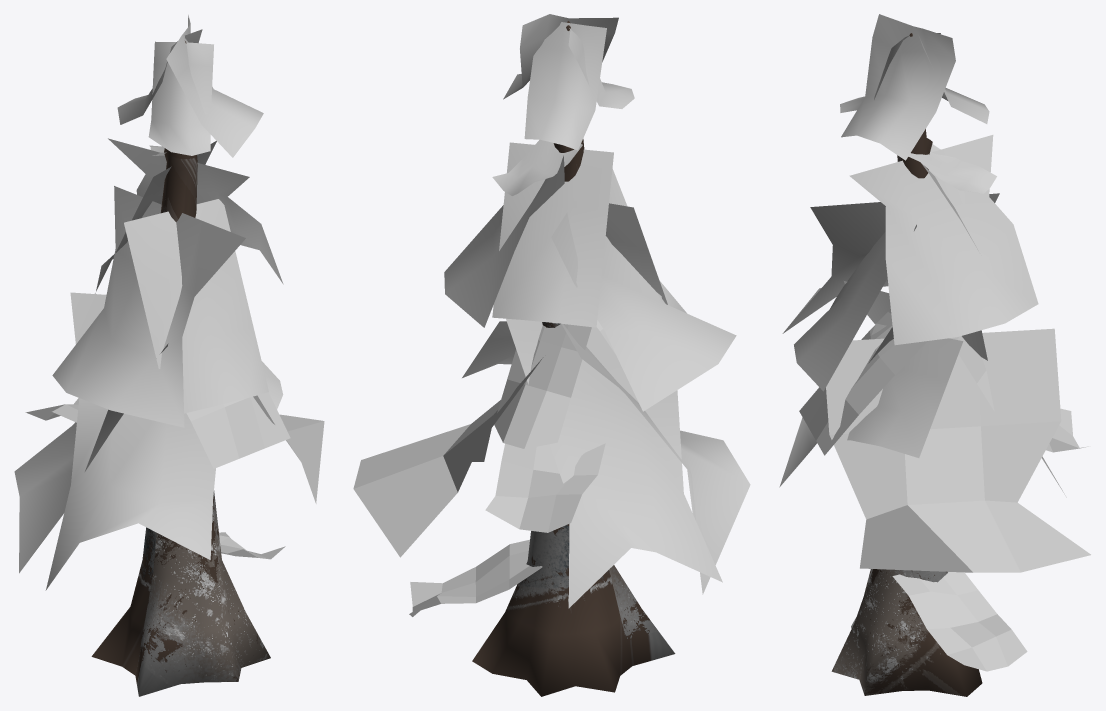
The model's file is Prop_Tree_3_Darline_m.fbx.
The picture shows the model from 3 angles, left to right: view 1: azimuth 30°, elevation 25°; view 2: azimuth 150°, elevation 25°; view 3: azimuth 270°, elevation 25°; orthographic projection. The views are drawn at different scales.
Parts seen in each view (by area): view 1: Prop_Tree_3_Darline_m; view 2: Prop_Tree_3_Darline_m; view 3: Prop_Tree_3_Darline_m.
Boxes of the visible parts, x1=… form: Prop_Tree_3_Darline_m: x1=14, y1=15, x2=324, y2=696; Prop_Tree_3_Darline_m: x1=353, y1=14, x2=750, y2=696; Prop_Tree_3_Darline_m: x1=779, y1=14, x2=1090, y2=696.
Size of the model in its own units: 282 by 513 by 226.
